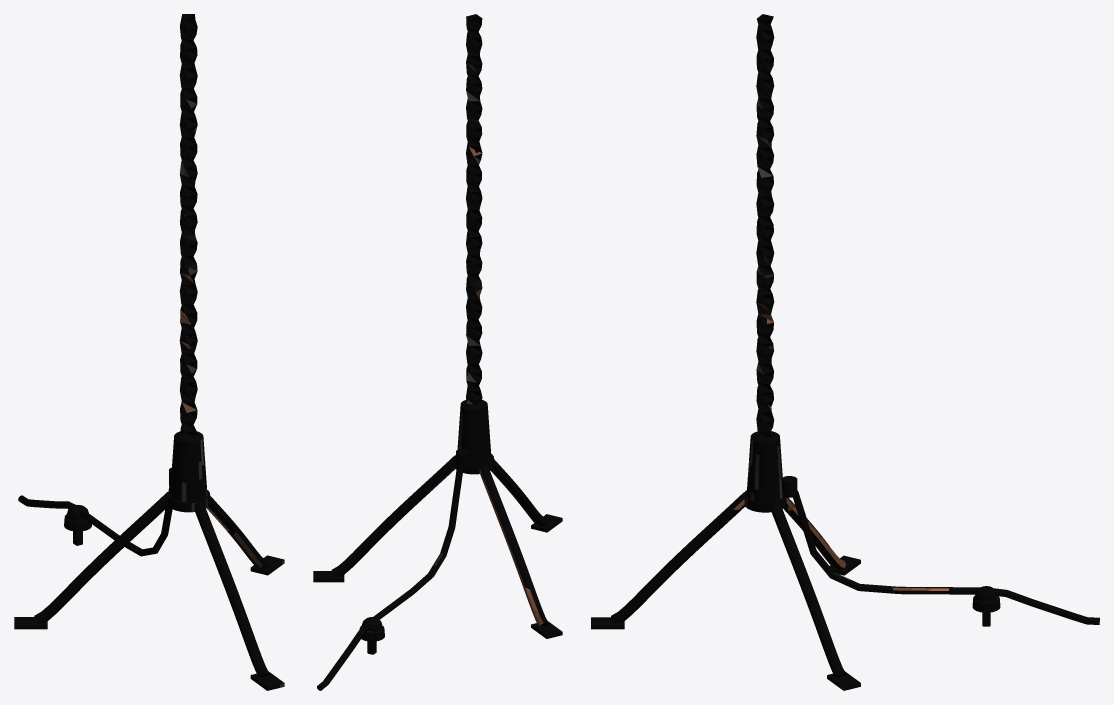
File: lower.obj
3 renders of one model, left to right at view 1: azimuth 30°, elevation 25°; view 2: azimuth 150°, elevation 25°; view 3: azimuth 270°, elevation 25°, orthographic. The views are drawn at different scales.
Visible parts, largest first — view 1: rod_lower, collar, leg_1, leg_2, cable, leg_0, insulator; view 2: rod_lower, collar, cable, leg_2, leg_0, leg_1, insulator; view 3: rod_lower, cable, collar, leg_0, leg_1, leg_2.
Part boxes in pixels (x1,y1,x2,y2): rod_lower: (179, 14, 197, 437); collar: (167, 431, 209, 512); leg_1: (194, 500, 269, 677); leg_2: (34, 492, 169, 623); cable: (18, 487, 172, 556); leg_0: (206, 495, 269, 569); insulator: (64, 505, 91, 531); rod_lower: (466, 14, 482, 405); collar: (454, 400, 493, 474); cable: (317, 465, 463, 690); leg_2: (479, 463, 548, 626); leg_0: (331, 455, 455, 576); leg_1: (491, 459, 548, 526); insulator: (359, 617, 384, 641); rod_lower: (756, 14, 774, 437); cable: (793, 490, 1099, 624); collar: (744, 431, 786, 512); leg_0: (771, 500, 845, 677); leg_1: (611, 492, 745, 623); leg_2: (783, 497, 845, 569).
Bounding box in the file's own units: 0.4653 × 1 × 0.7593.
